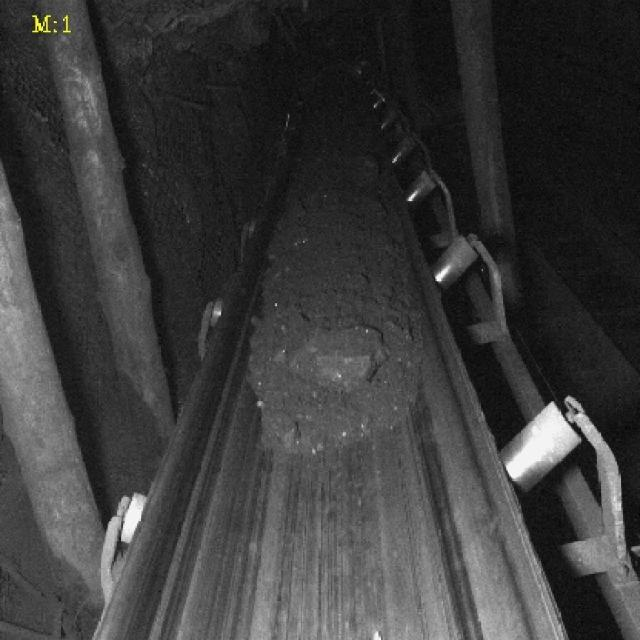large_sized_coal: (291, 328, 383, 389)
